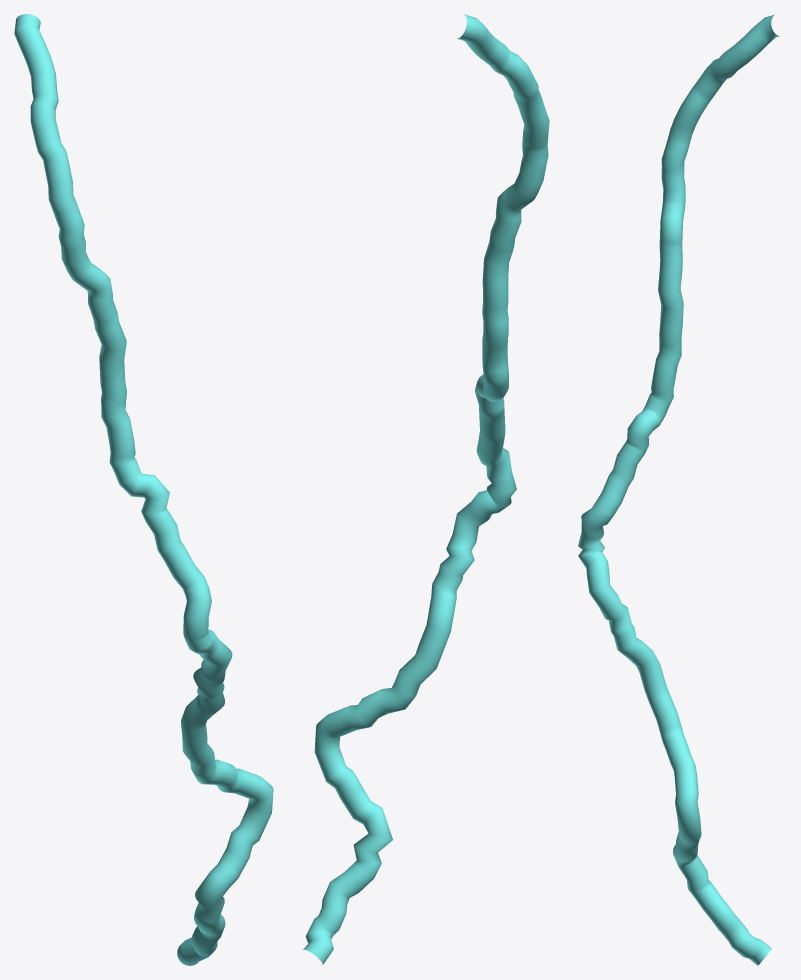
File: spl-5007.glb
The picture shows the model from 3 angles, left to right: view 1: azimuth 30°, elevation 25°; view 2: azimuth 150°, elevation 25°; view 3: azimuth 270°, elevation 25°; orthographic projection. The views are drawn at different scales.
Visible parts, largest first — view 1: spl-5007; view 2: spl-5007; view 3: spl-5007.
Part boxes in pixels (left/top/right/bottom): spl-5007: left=14, top=14, right=273, bottom=965; spl-5007: left=303, top=14, right=549, bottom=964; spl-5007: left=578, top=14, right=779, bottom=965.
Size of the model in its own units: 20.59 by 85.99 by 18.45.
